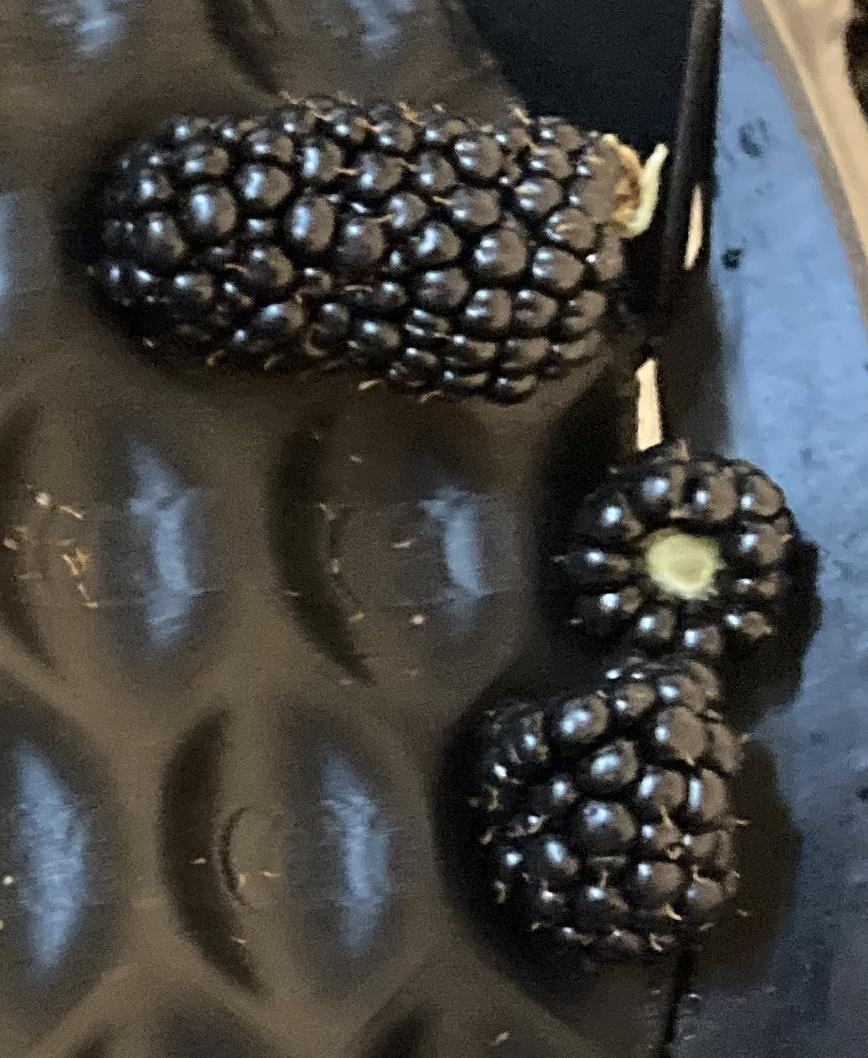berry: (91, 96, 665, 403), (466, 659, 739, 956), (565, 442, 794, 658)
